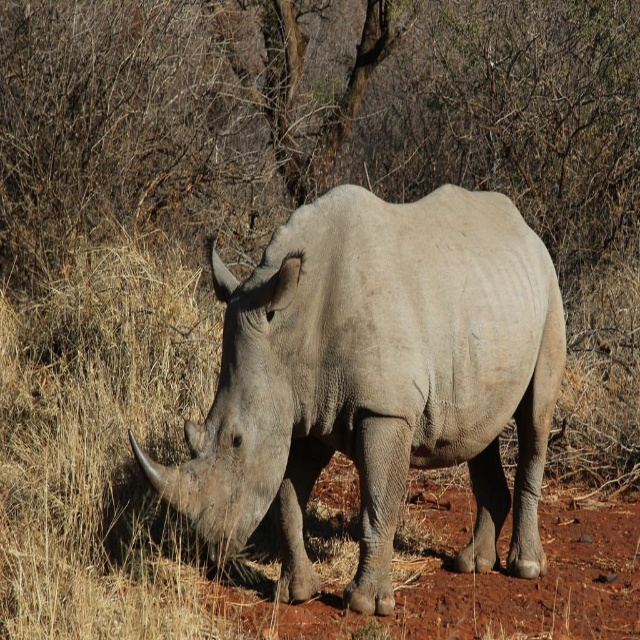Rhinoceros: (126, 176, 570, 623)
